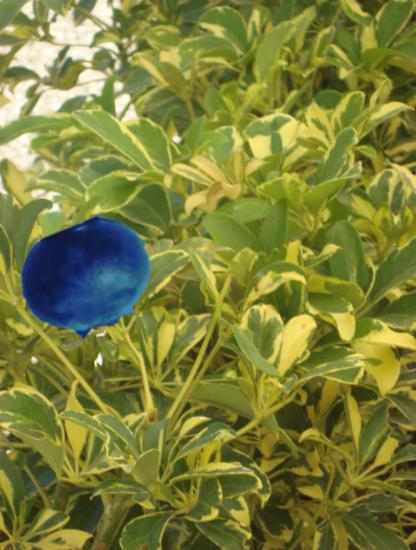Huckleberry: (20, 210, 156, 346)
